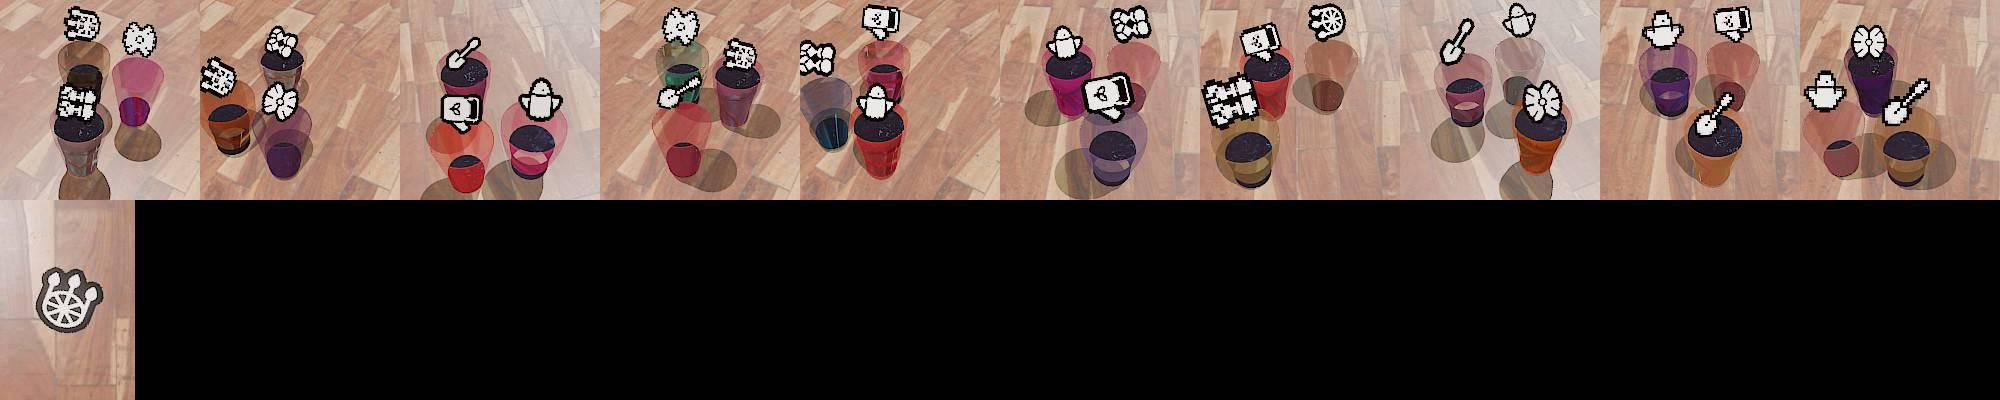icon: (33, 259, 114, 335), (1202, 73, 1258, 126), (1082, 71, 1133, 120), (1883, 76, 1930, 126), (439, 85, 483, 131), (518, 76, 565, 120), (1522, 78, 1565, 124), (1695, 88, 1735, 138), (1802, 69, 1848, 111), (855, 82, 901, 122), (1437, 17, 1474, 66), (1108, 5, 1152, 43), (661, 6, 702, 46), (200, 56, 239, 98), (261, 82, 300, 124), (55, 84, 98, 121), (1239, 22, 1282, 59), (657, 75, 703, 110), (1713, 6, 1754, 45), (1643, 10, 1684, 48), (860, 4, 902, 41), (1307, 3, 1347, 41), (1045, 24, 1084, 61), (1851, 23, 1888, 61), (798, 39, 837, 76), (62, 6, 102, 42), (263, 24, 300, 61), (721, 37, 759, 73), (121, 22, 157, 60), (445, 36, 482, 70), (1501, 3, 1536, 38)
